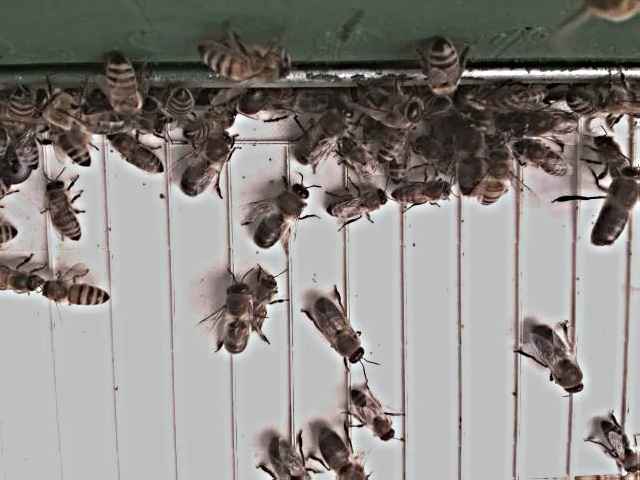Drone: (528, 323, 588, 399), (591, 166, 640, 252), (298, 103, 357, 170), (256, 185, 312, 253), (314, 296, 367, 367), (180, 132, 234, 200), (451, 116, 486, 202), (318, 429, 369, 480), (223, 280, 252, 358)
Worker: (199, 44, 293, 80), (108, 132, 166, 177), (352, 388, 396, 447), (599, 421, 640, 478), (514, 140, 570, 181), (40, 280, 114, 310), (182, 107, 242, 144), (50, 180, 84, 245), (326, 188, 389, 223), (479, 151, 515, 209), (48, 124, 94, 169), (394, 182, 455, 212), (375, 120, 410, 170)
